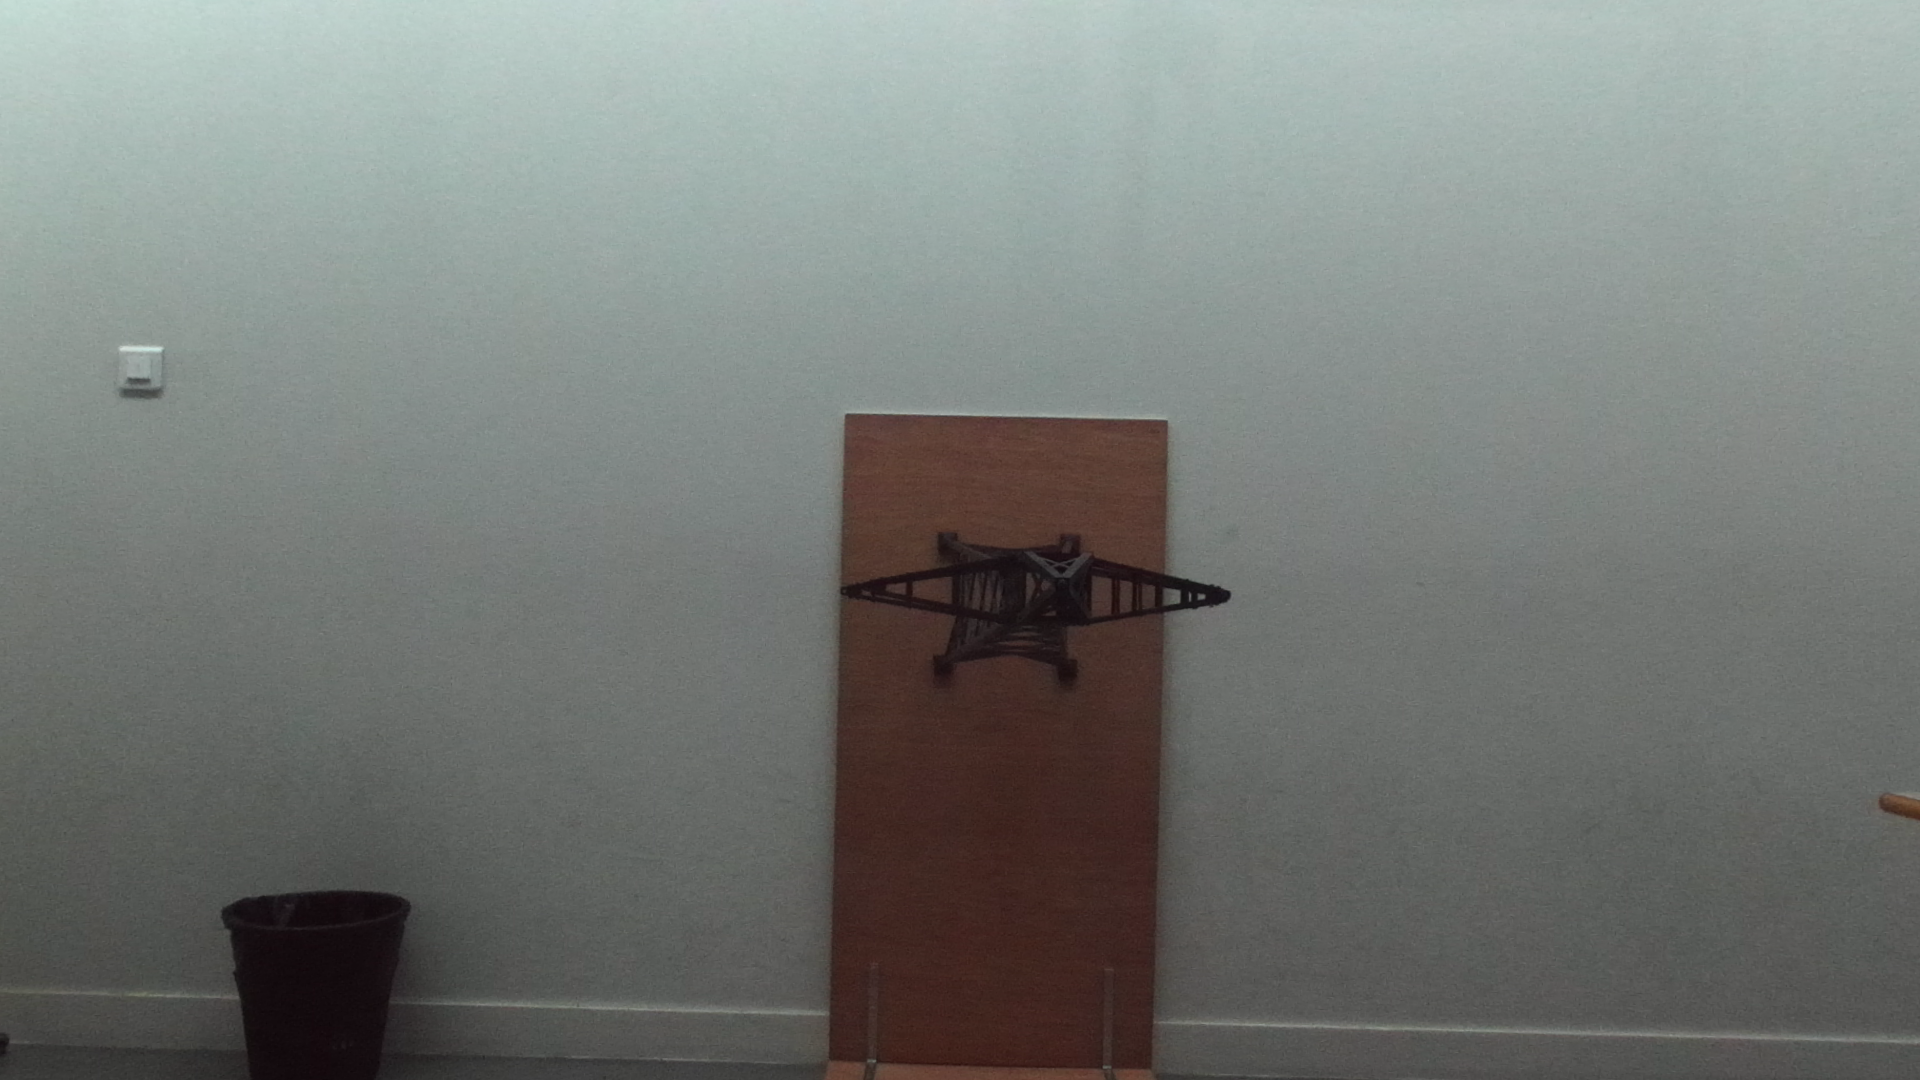pylon_phy: (866, 549, 1232, 626)
